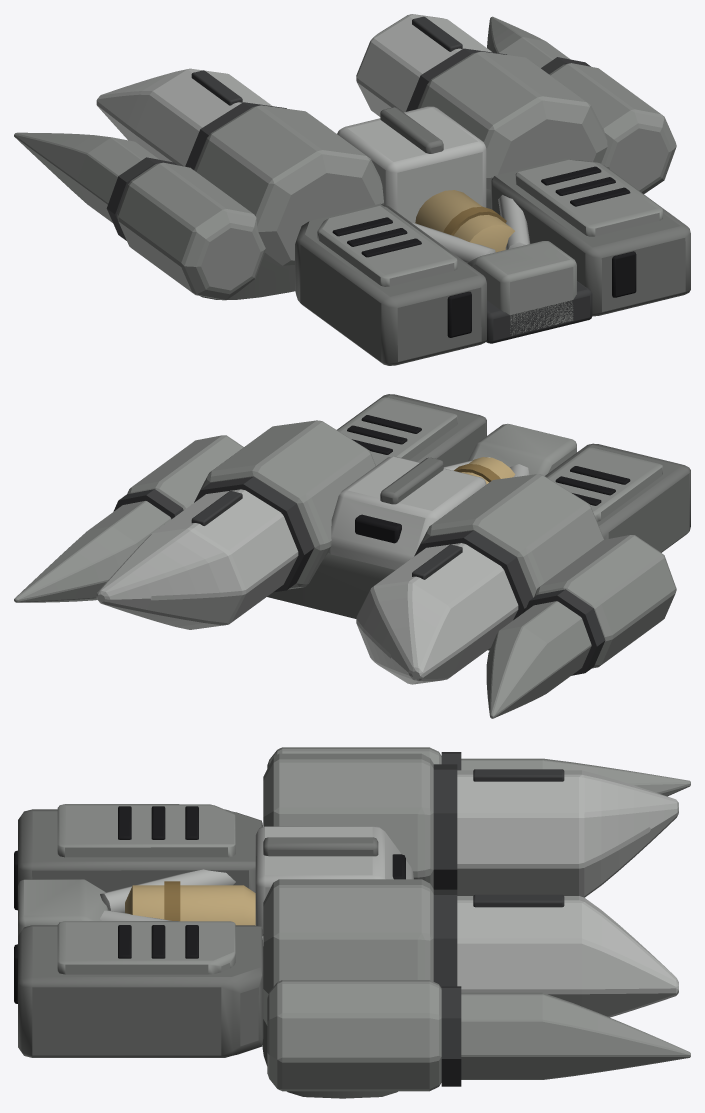
File: store_gun_0.glb
3 renders of one model, top to bottom at view 1: azimuth 30°, elevation 25°; view 2: azimuth 150°, elevation 25°; view 3: azimuth 270°, elevation 25°, orthographic. The views are drawn at different scales.
Parts seen in each view (by area): view 1: knuckle_-1, leg_-1, knuckle_1, knuckle_out_-1, leg_1, head, barrel_-1, knuckle_out_1, tail, barrel_1, leg_top_1, leg_top_-1 (+16 smaller); view 2: barrel_1, barrel_-1, knuckle_-1, knuckle_1, knuckle_out_-1, head, spike_-1, spike_1, leg_-1, shoulder, leg_top_1, leg_top_-1 (+12 smaller); view 3: leg_1, barrel_-1, knuckle_out_1, barrel_1, knuckle_1, spike_1, knuckle_-1, leg_-1, leg_top_1, leg_top_-1, head, breech (+12 smaller).
Boxes of the visible parts, <box> form: knuckle_-1: <box>194,105,383,265</box>; leg_-1: <box>295,203,486,365</box>; knuckle_1: <box>417,51,607,189</box>; knuckle_out_-1: <box>117,162,265,300</box>; leg_1: <box>491,158,690,316</box>; head: <box>337,106,486,222</box>; barrel_-1: <box>96,68,272,166</box>; knuckle_out_1: <box>549,63,676,193</box>; tail: <box>467,241,576,335</box>; barrel_1: <box>356,14,492,116</box>; leg_top_1: <box>515,159,662,236</box>; leg_top_-1: <box>317,205,457,286</box>; barrel_1: <box>96,489,298,629</box>; barrel_-1: <box>356,543,518,684</box>; knuckle_-1: <box>414,474,604,597</box>; knuckle_1: <box>196,420,375,589</box>; knuckle_out_-1: <box>534,535,676,668</box>; head: <box>328,456,486,569</box>; spike_-1: <box>486,601,591,718</box>; spike_1: <box>14,501,171,602</box>; leg_-1: <box>545,443,690,552</box>; shoulder: <box>267,552,490,650</box>; leg_top_1: <box>337,397,457,465</box>; leg_top_-1: <box>547,447,662,521</box>; leg_1: <box>18,925,263,1057</box>; barrel_-1: <box>457,770,678,897</box>; knuckle_out_1: <box>267,980,441,1091</box>; barrel_1: <box>457,896,678,1017</box>; knuckle_1: <box>263,879,433,1025</box>; spike_1: <box>461,992,690,1079</box>; knuckle_-1: <box>263,753,433,888</box>; leg_-1: <box>18,809,262,892</box>; leg_top_1: <box>57,921,235,974</box>; leg_top_-1: <box>57,804,235,857</box>; head: <box>255,826,413,933</box>; breech: <box>125,885,255,925</box>.
Bounding box in the file's own units: 33.68 × 8.33 × 34.2.
